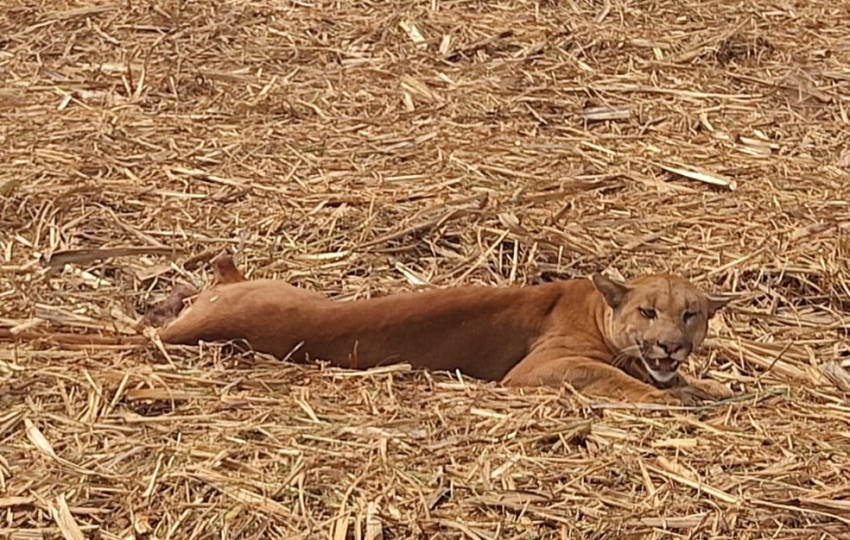OncaParda: (143, 260, 748, 408)
